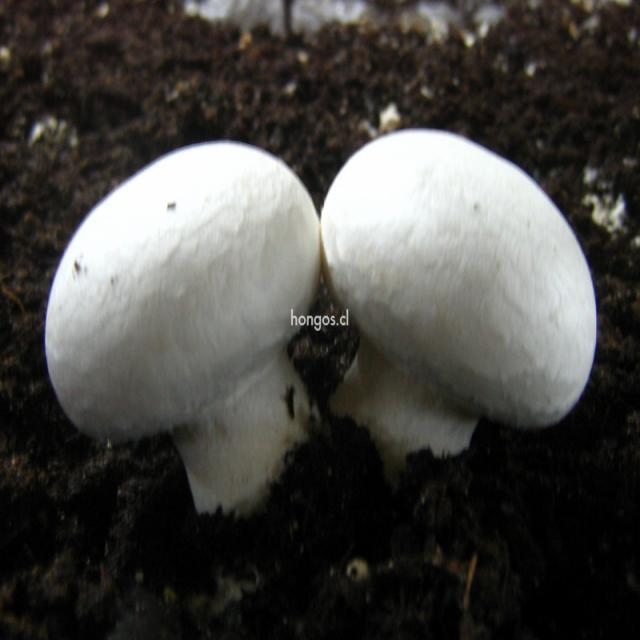Agaricus bisporus: (47, 141, 326, 513), (325, 127, 598, 462)
